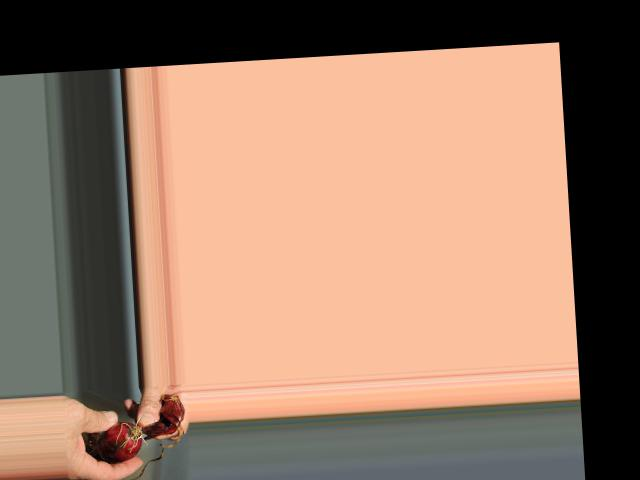onion: (102, 420, 143, 462)
